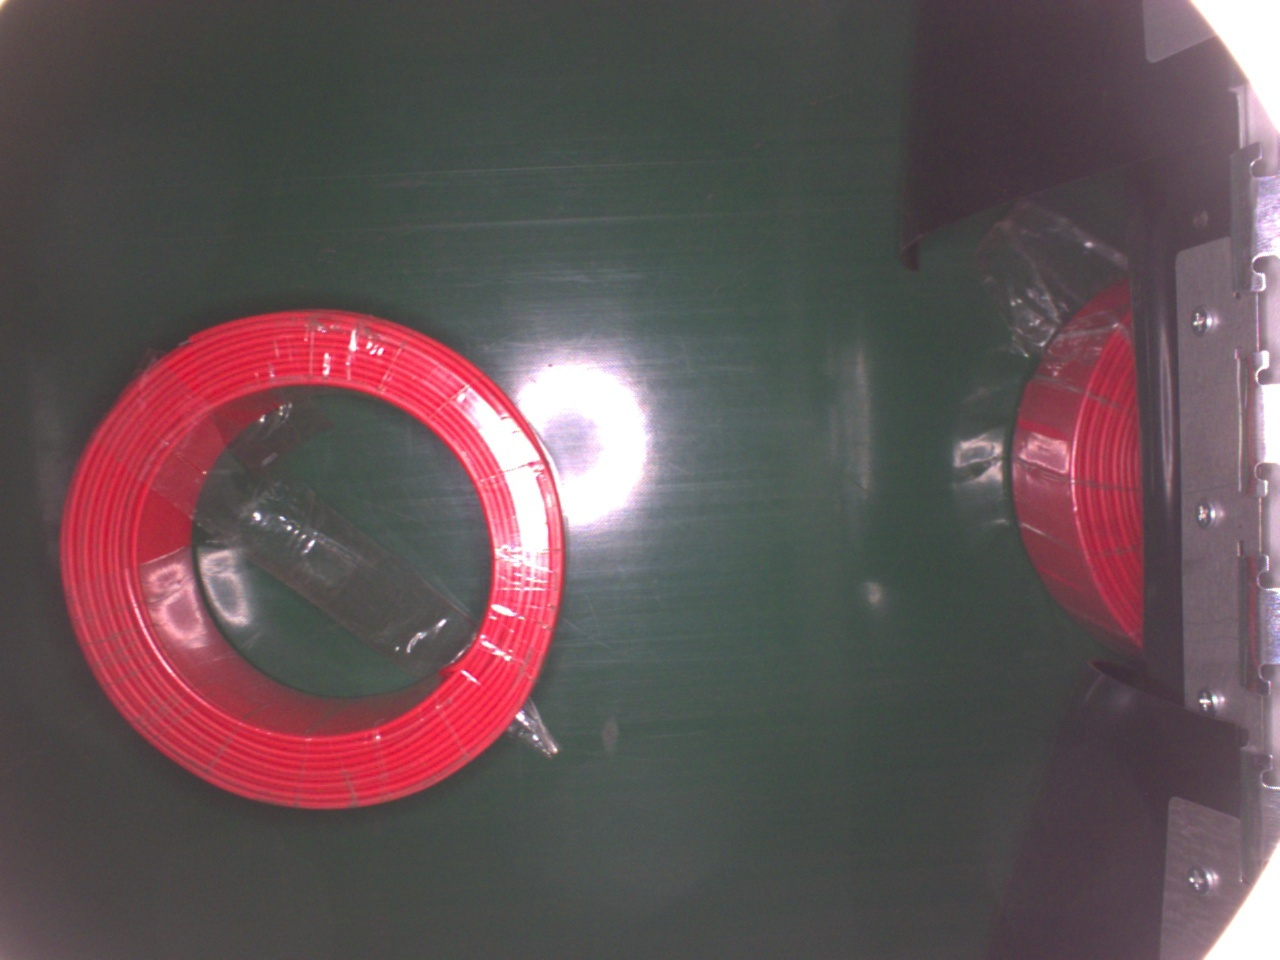red: (57, 309, 568, 809), (1005, 263, 1147, 652)
